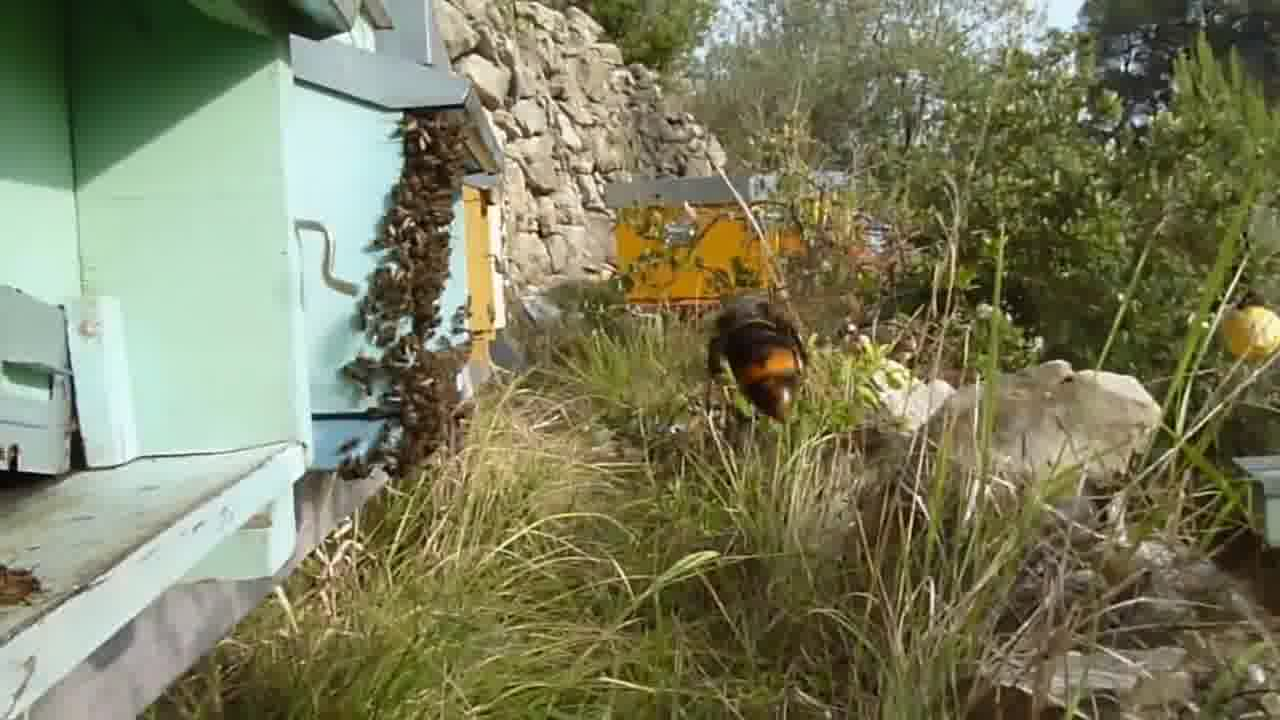bee: (336, 351, 452, 477), (365, 237, 462, 350), (389, 116, 474, 231)
hornet: (688, 288, 819, 428)
